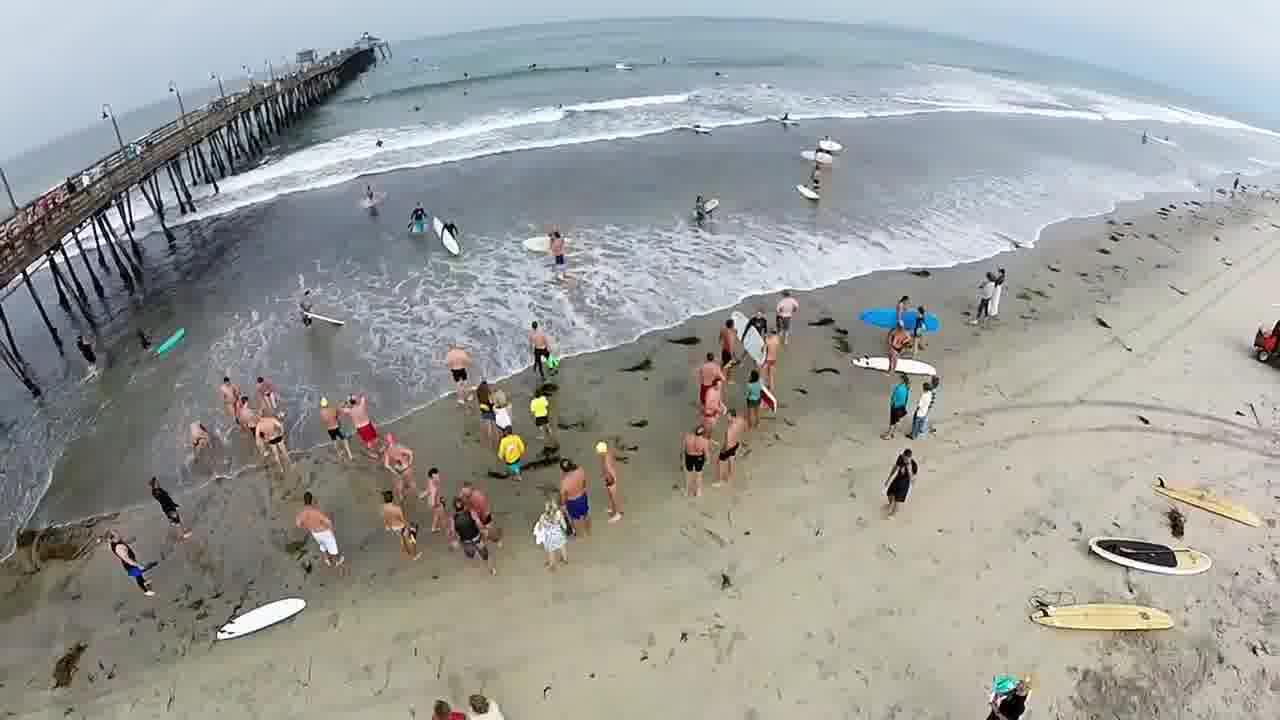human: (543, 223, 566, 273), (357, 179, 385, 202), (691, 194, 707, 230)
